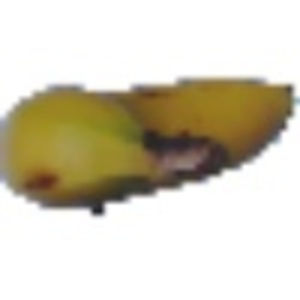banana: (1, 68, 294, 213)
